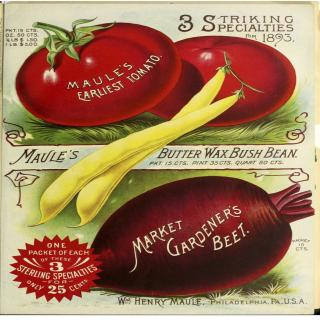tomato: (12, 24, 189, 125)
